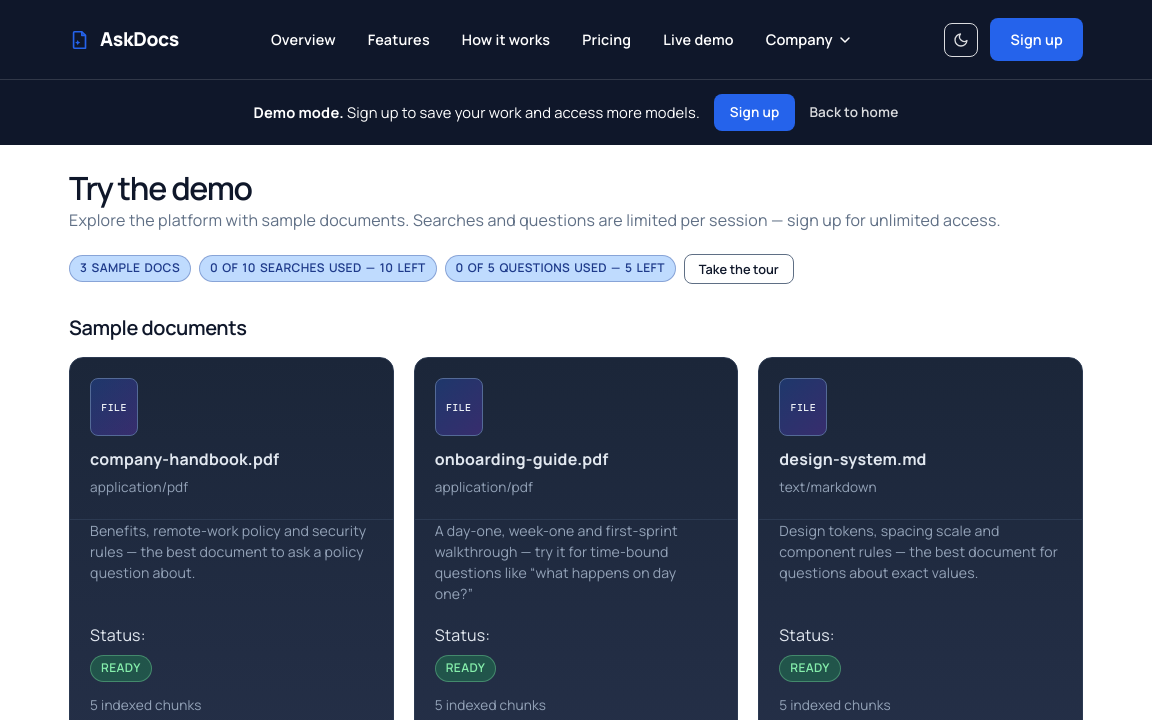
it: DemoPage — walkthrough › is re-openable from the page
This screenshot has width=1152, height=720.
Click the button "Take the tour".
click(739, 269)  # box [684,254,794,284]
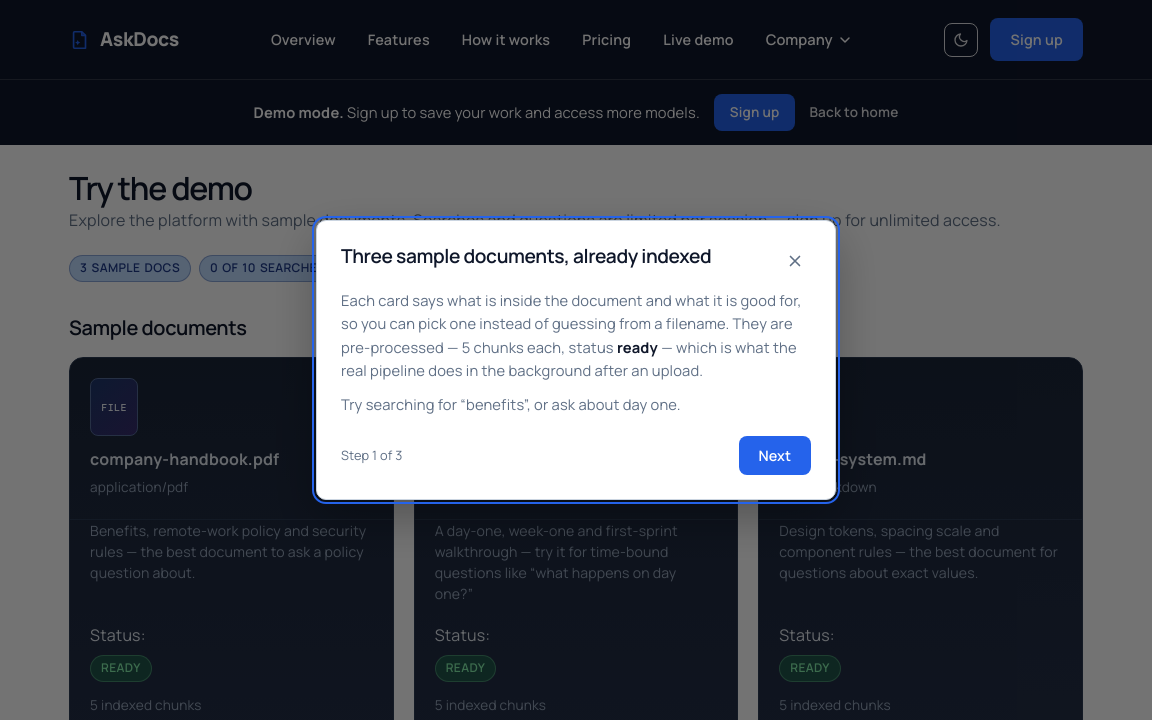
Check: the dialog is shown, box [316,220,836,500]
Check: the text "Step 1 of 3" is shown, box [341,444,402,468]
